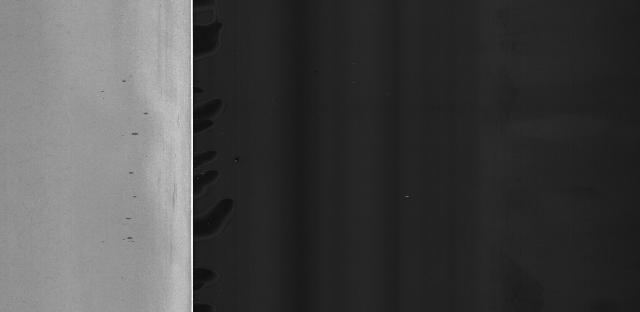oil_spot: (118, 208, 138, 230), (129, 116, 143, 145), (123, 167, 143, 182), (119, 71, 136, 87), (117, 235, 137, 247)
